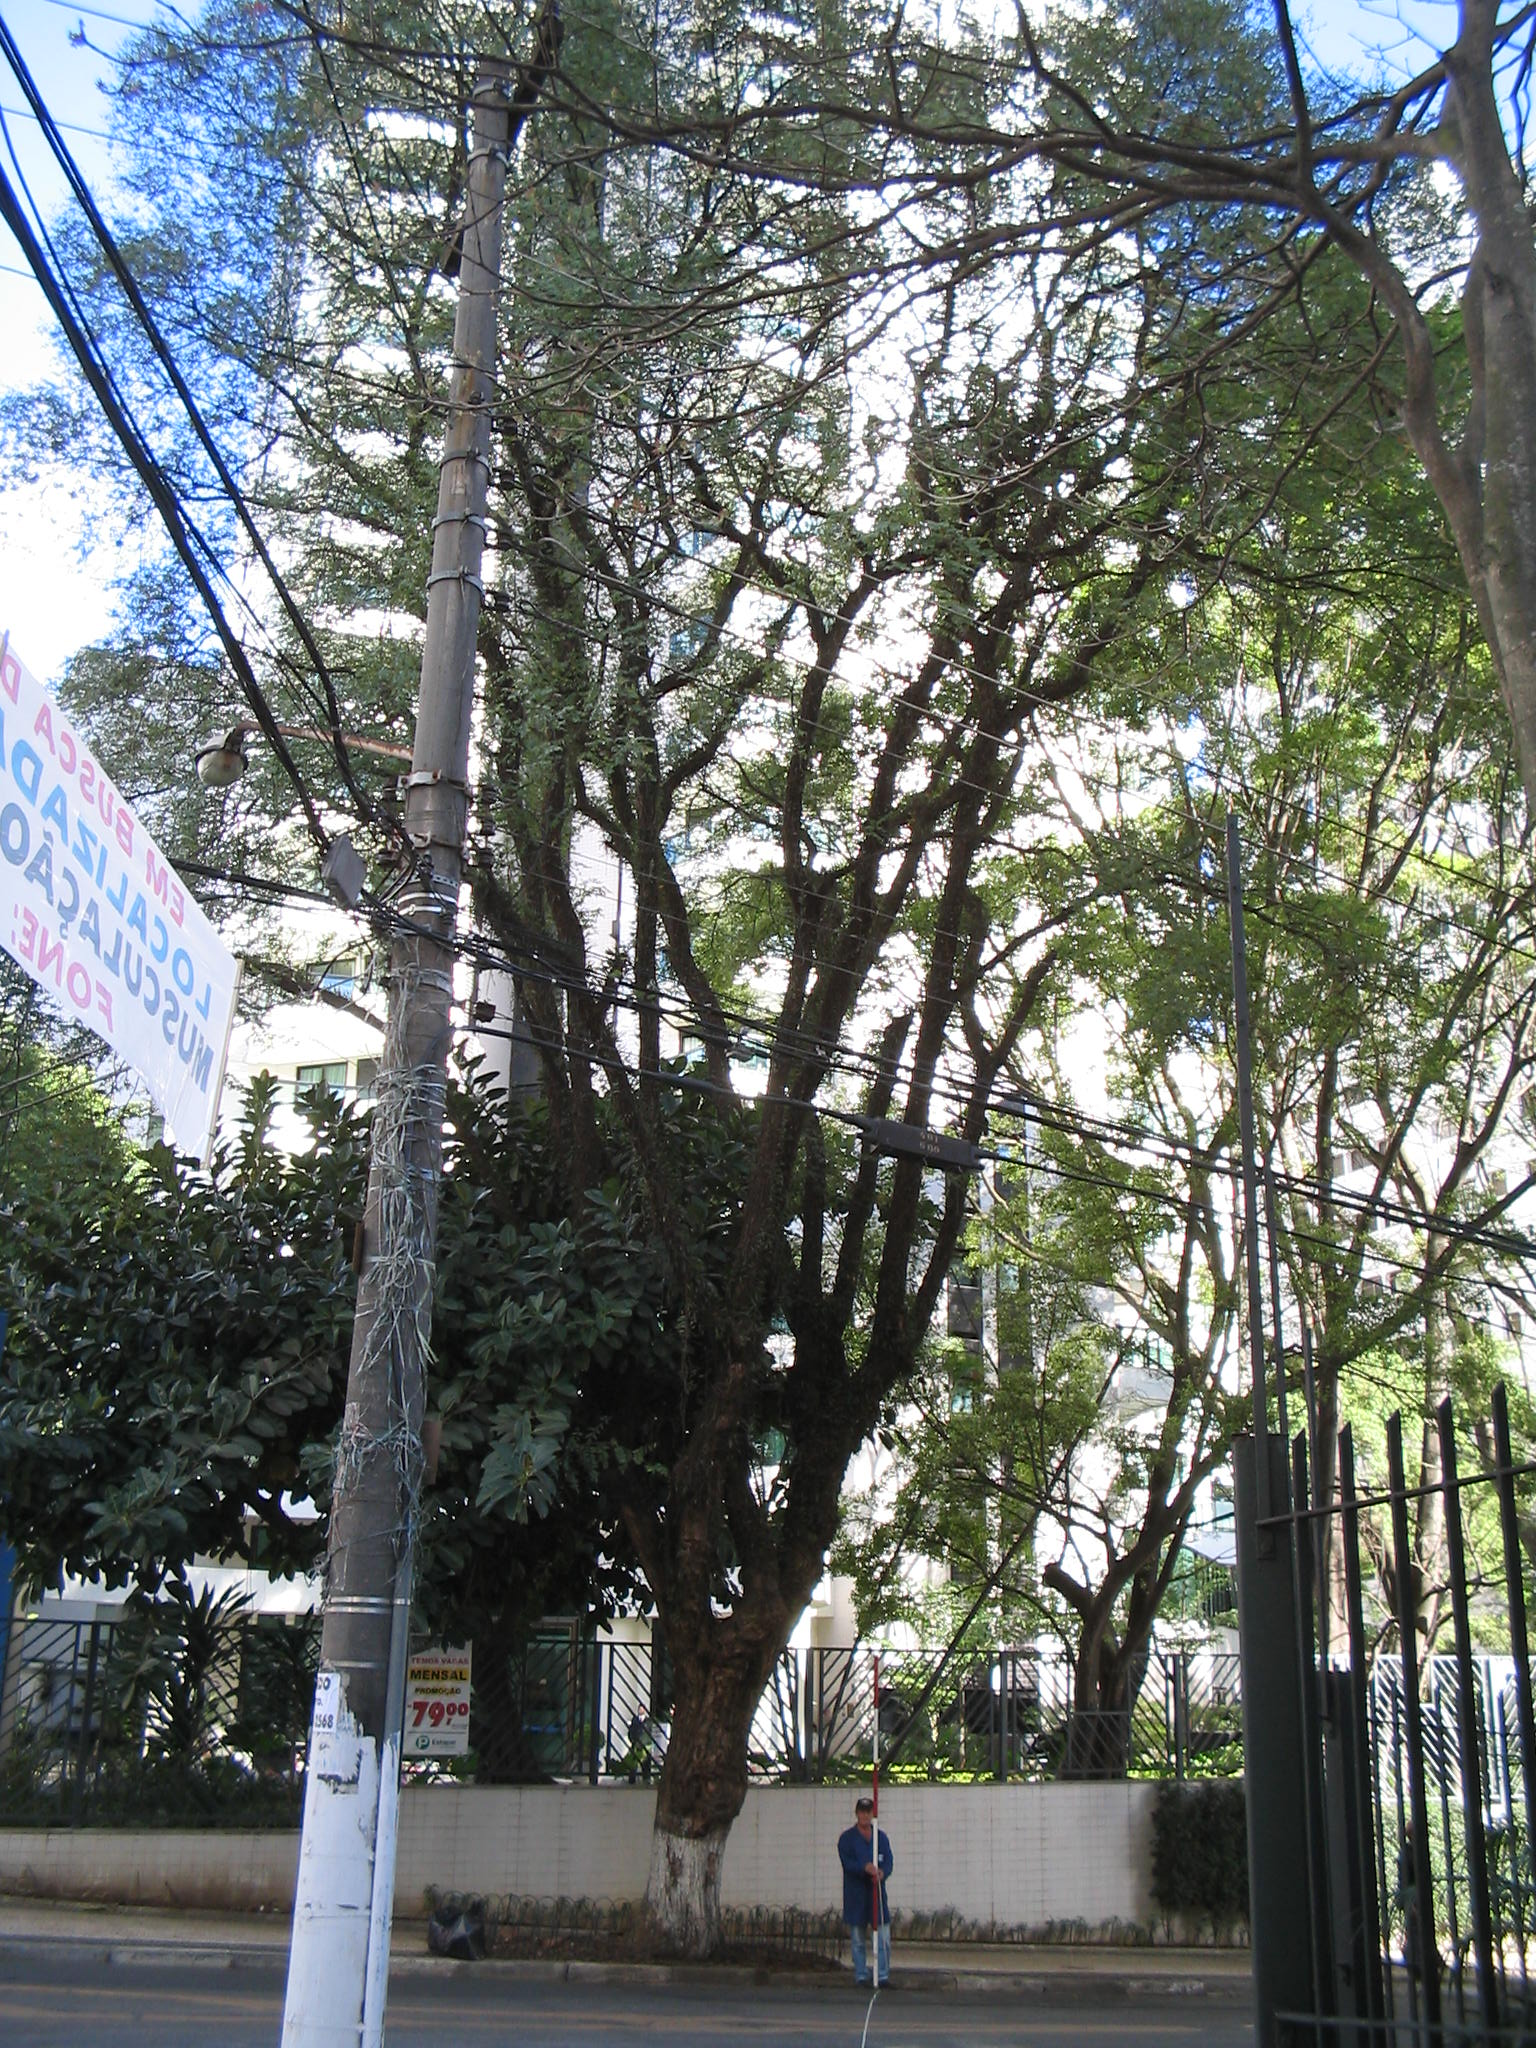stem: (599, 1632, 816, 1963)
stick: (839, 1655, 907, 1992)
tree: (2, 3, 1444, 1967)
